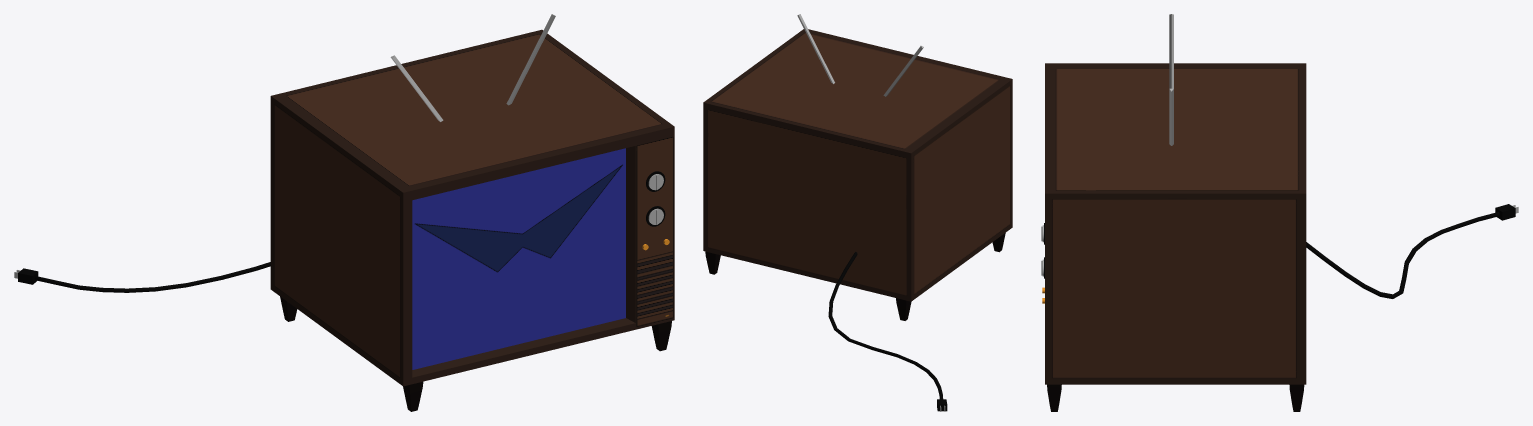
File: TVModel.fbx
3 views of the same model, side by side, from view 1: azimuth 30°, elevation 25°; view 2: azimuth 150°, elevation 25°; view 3: azimuth 270°, elevation 25° (orthographic). The views are drawn at different scales.
Visible parts, largest first — view 1: Box001, Line001; view 2: Box001, Line001, Antenna01; view 3: Box001, Line001.
Boxes of the visible parts, x1,y1,x2,y2 form: Box001: [270, 29, 674, 386]; Line001: [34, 262, 270, 292]; Box001: [703, 29, 1012, 301]; Line001: [828, 252, 943, 399]; Antenna01: [797, 14, 834, 83]; Box001: [1045, 63, 1306, 384]; Line001: [1306, 212, 1499, 298].
Size of the model in its own units: 78.3 by 53.81 by 77.85.
5 materials, 1 textured.
